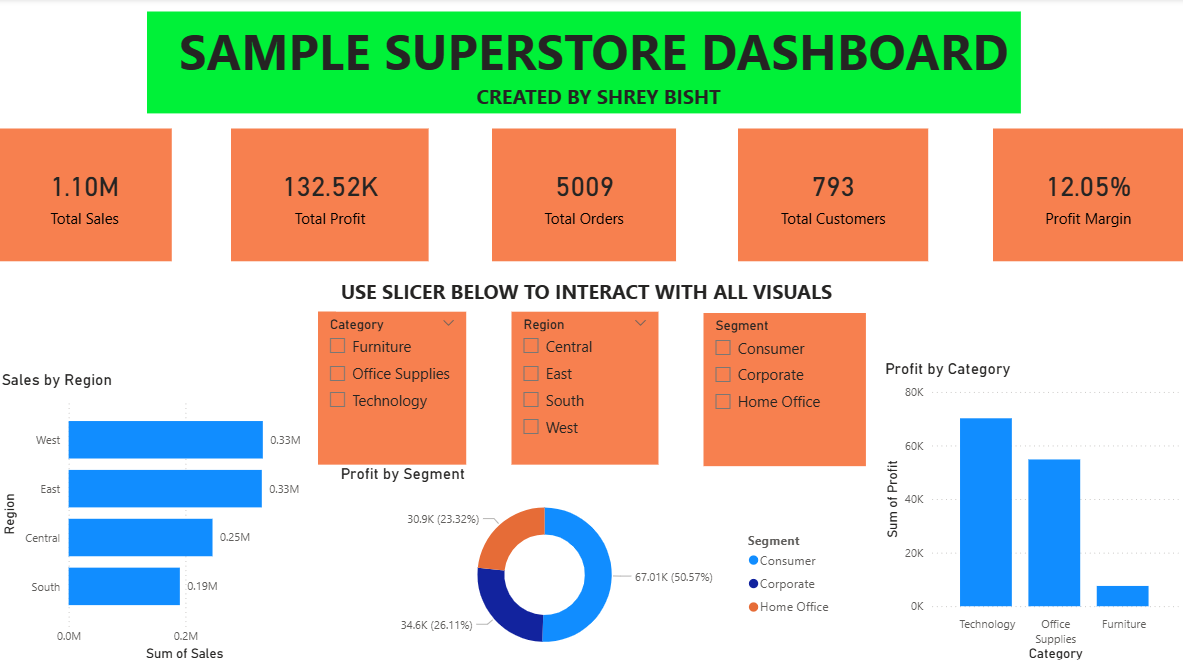

Layout of this report page (visuals, bound fields, positions):
{"tool":"powerbi","page":{"name":"Executive Dashboard","canvas":[1280,720],"ordinal":0},"visuals":[{"type":"card","fields":{"Values":["sample_superstore.Total Sales"]},"box":[0,141.7,188.3,143.3],"z":0},{"type":"card","fields":{"Values":["sample_superstore.Total Profit"]},"box":[253.3,141.7,213.3,143.3],"z":1},{"type":"card","fields":{"Values":["sample_superstore.Total Orders"]},"box":[535,141.7,198.3,143.3],"z":2},{"type":"card","fields":{"Values":["sample_superstore.Total Customers"]},"box":[800,141.7,205,143.3],"z":3},{"type":"card","fields":{"Values":["sample_superstore.Profit Margin"]},"box":[1075,141.7,205,143.3],"z":4},{"type":"barChart","title":"Sales by Region","fields":{"Category":["sample_superstore.Region"],"Y":["Sum(sample_superstore.Sales)"]},"box":[0,401.7,346.7,318.3],"z":6},{"type":"columnChart","title":"Profit by Category","fields":{"Category":["sample_superstore.Category"],"Y":["Sum(sample_superstore.Profit)"]},"box":[953.3,390,326.7,330],"z":7},{"type":"donutChart","title":"Profit by Segment","fields":{"Category":["sample_superstore.Segment"],"Y":["Sum(sample_superstore.Profit)"]},"box":[366.7,503.3,546.7,216.7],"z":8},{"type":"slicer","fields":{"Values":["sample_superstore.Region"]},"box":[555,338.3,158.3,165],"z":10},{"type":"slicer","fields":{"Values":["sample_superstore.Category"]},"box":[346.7,338.3,160,165],"z":11},{"type":"slicer","fields":{"Values":["sample_superstore.Segment"]},"box":[763.3,340,175,165],"z":12},{"type":"textbox","box":[161.7,15,943.3,110],"z":13},{"type":"textbox","box":[366.7,296.7,558.3,41.7],"z":14}]}

Visuals, with their boxes in screenshot pixels (x1, y1, x2, y2), scaled from the page's 1280x720 canvas onto the 1183x661 screenshot:
card - sample_superstore.Total Sales: [left=0, top=130, right=174, bottom=262]
card - sample_superstore.Total Profit: [left=234, top=130, right=431, bottom=262]
card - sample_superstore.Total Orders: [left=494, top=130, right=678, bottom=262]
card - sample_superstore.Total Customers: [left=739, top=130, right=929, bottom=262]
card - sample_superstore.Profit Margin: [left=994, top=130, right=1182, bottom=262]
"Sales by Region" barChart: [left=0, top=369, right=320, bottom=660]
"Profit by Category" columnChart: [left=881, top=358, right=1182, bottom=660]
"Profit by Segment" donutChart: [left=339, top=462, right=844, bottom=660]
slicer - sample_superstore.Region: [left=513, top=311, right=659, bottom=462]
slicer - sample_superstore.Category: [left=320, top=311, right=468, bottom=462]
slicer - sample_superstore.Segment: [left=705, top=312, right=867, bottom=464]
textbox: [left=149, top=14, right=1021, bottom=115]
textbox: [left=339, top=272, right=855, bottom=311]
